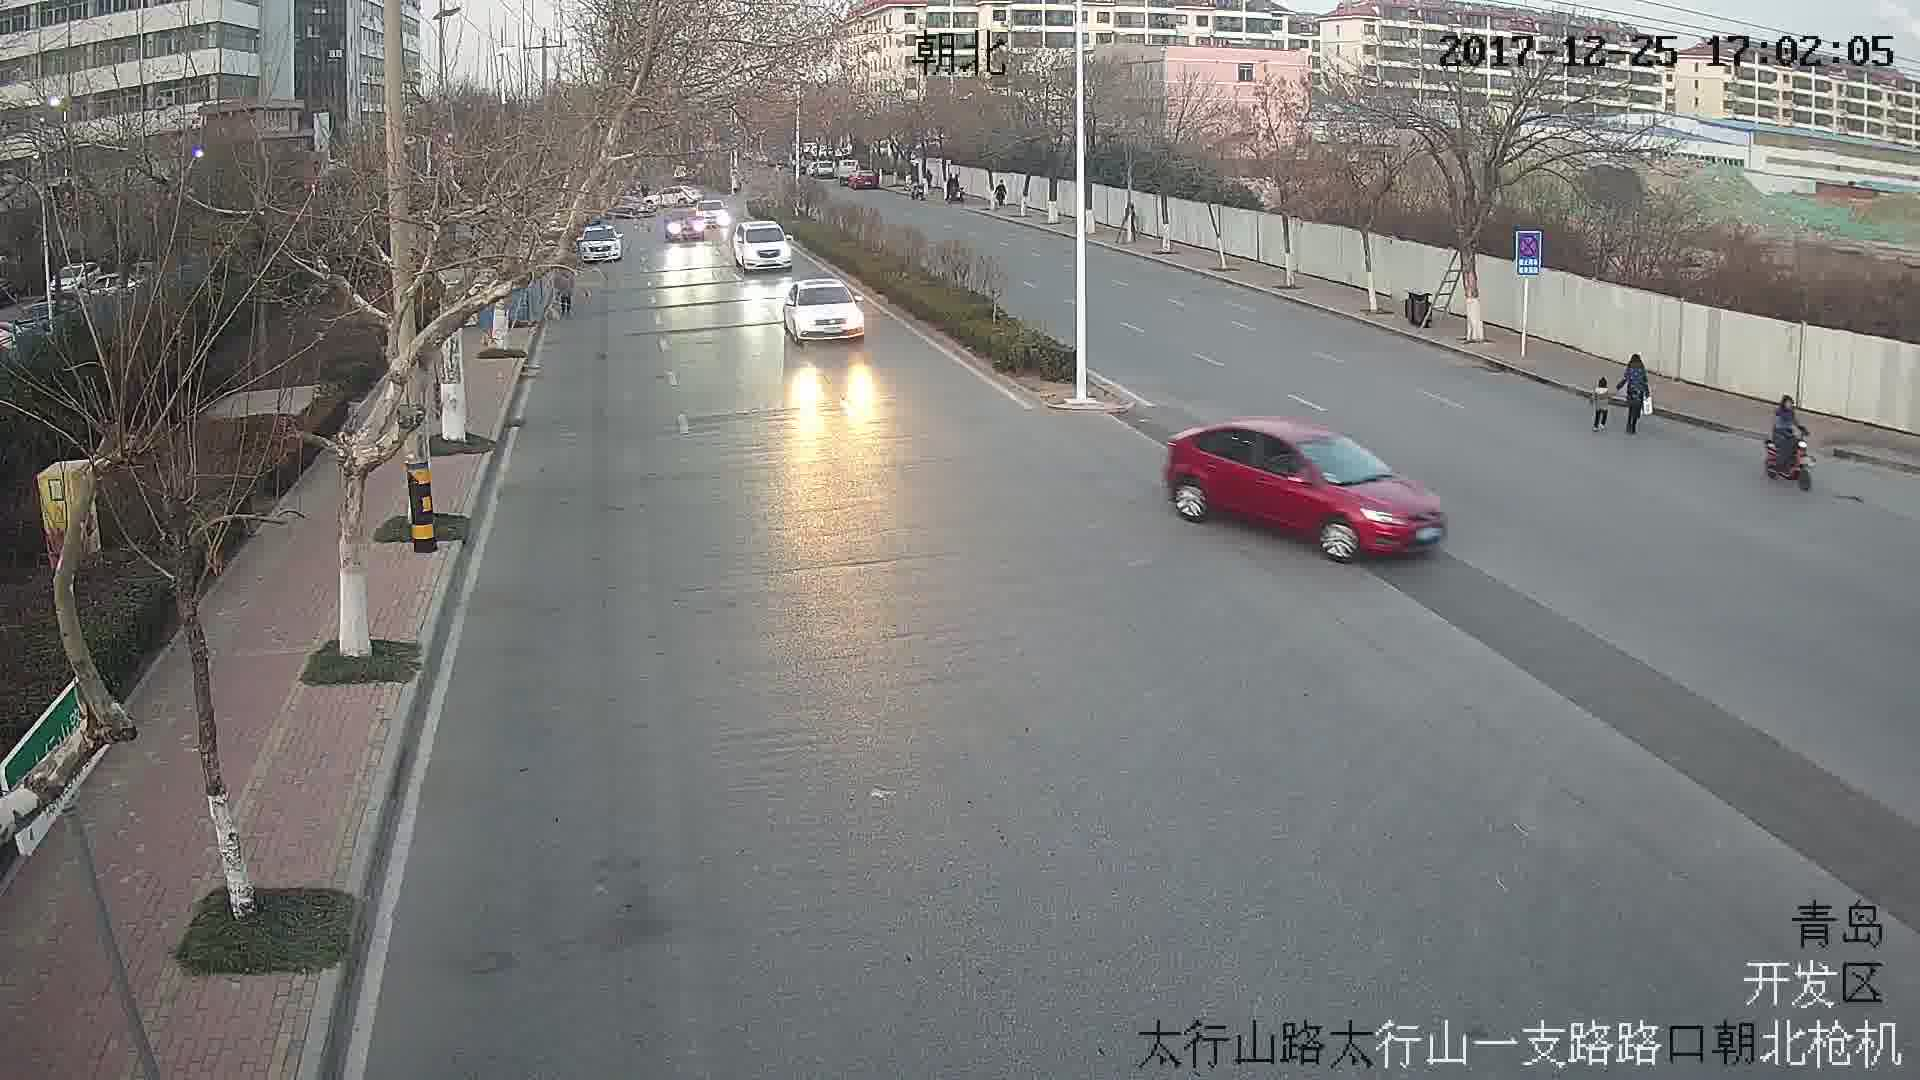car: (1170, 414, 1452, 559), (788, 277, 863, 339), (732, 219, 796, 273), (581, 224, 627, 263)
person: (1618, 349, 1652, 435), (1774, 389, 1807, 469), (1591, 373, 1610, 430)
